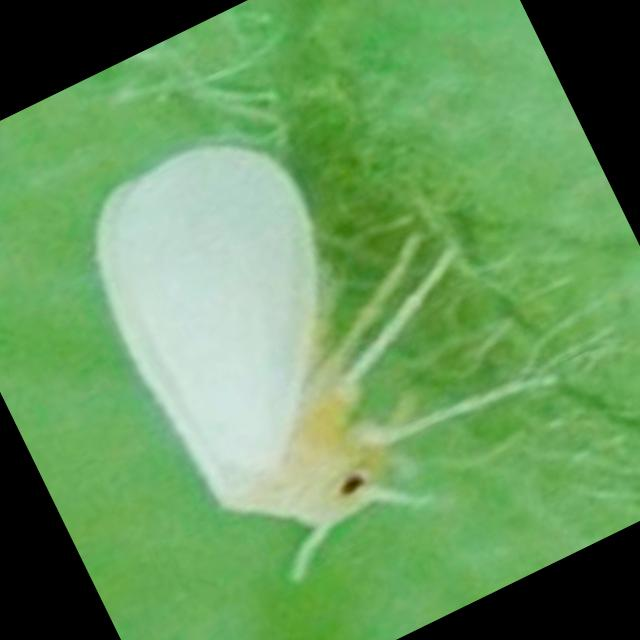Silverleaf whitefly: (27, 38, 596, 640)
